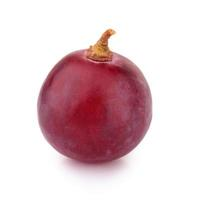grapes: (35, 24, 159, 165)
